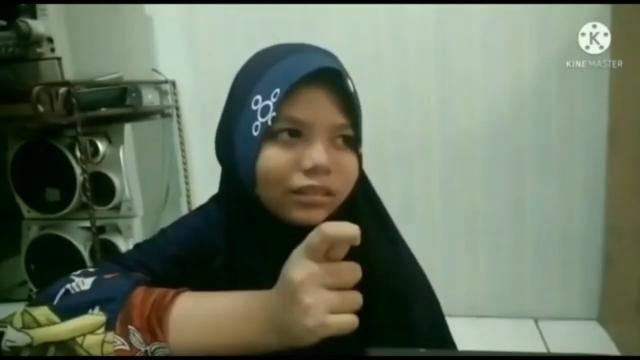T: (277, 220, 369, 350)
